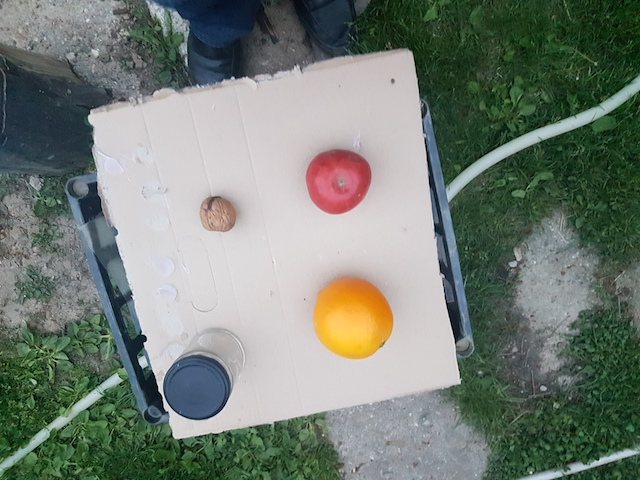apple: (305, 150, 375, 216)
nut: (198, 193, 237, 234)
orange: (314, 275, 396, 361)
recipient: (162, 354, 229, 424)
